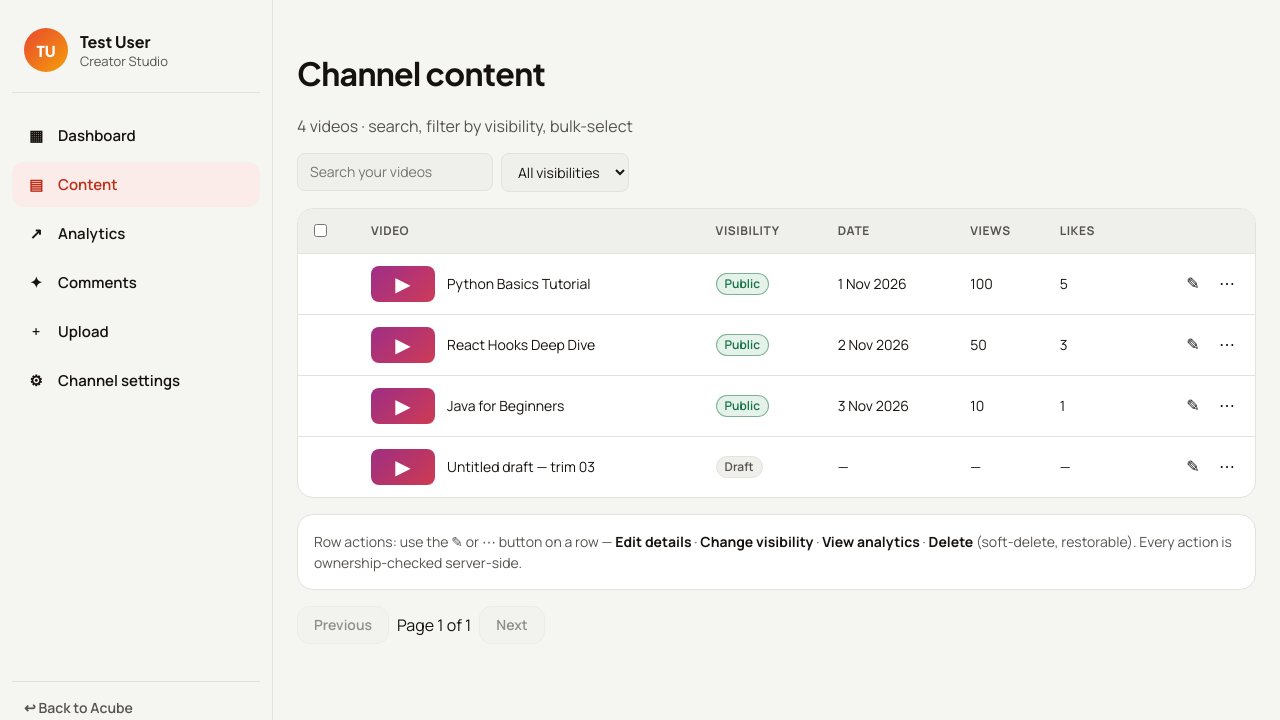
Scenario: Content cleanup › Edit details blocks an invalid thumbnail URL with an inline error and no PATCH
Expected: the link "Python Basics Tutorial" is shown, [447,274,591,293]
Click the button named "Row actions for Python Basics Tutorial" at coordinates (1193, 284), box [1177,268,1209,300]
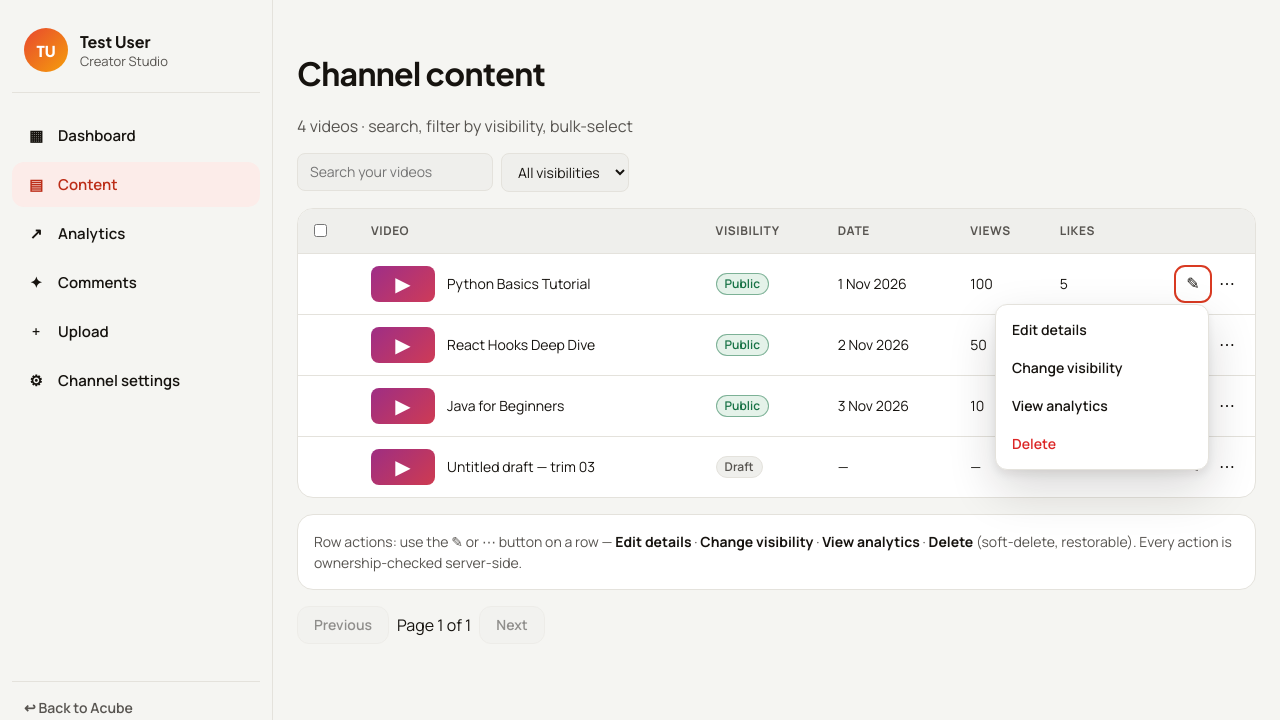
Expected: the menu named "Actions for Python Basics Tutorial" is shown, [995,304,1209,470]
Click the menu item "Edit details" at coordinates (1102, 330), box [1002,311,1202,349]
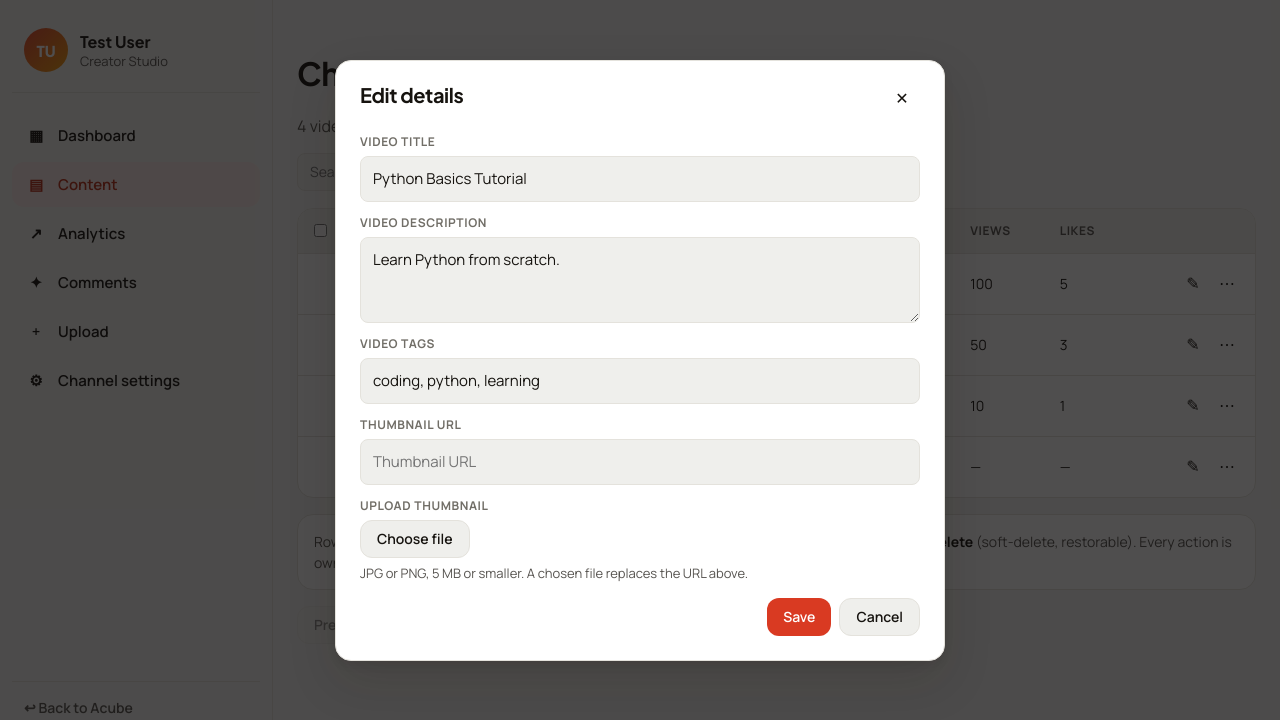
Type "not-a-url" into the field labelled "Thumbnail URL" at coordinates (640, 462), box [360,438,920,484]
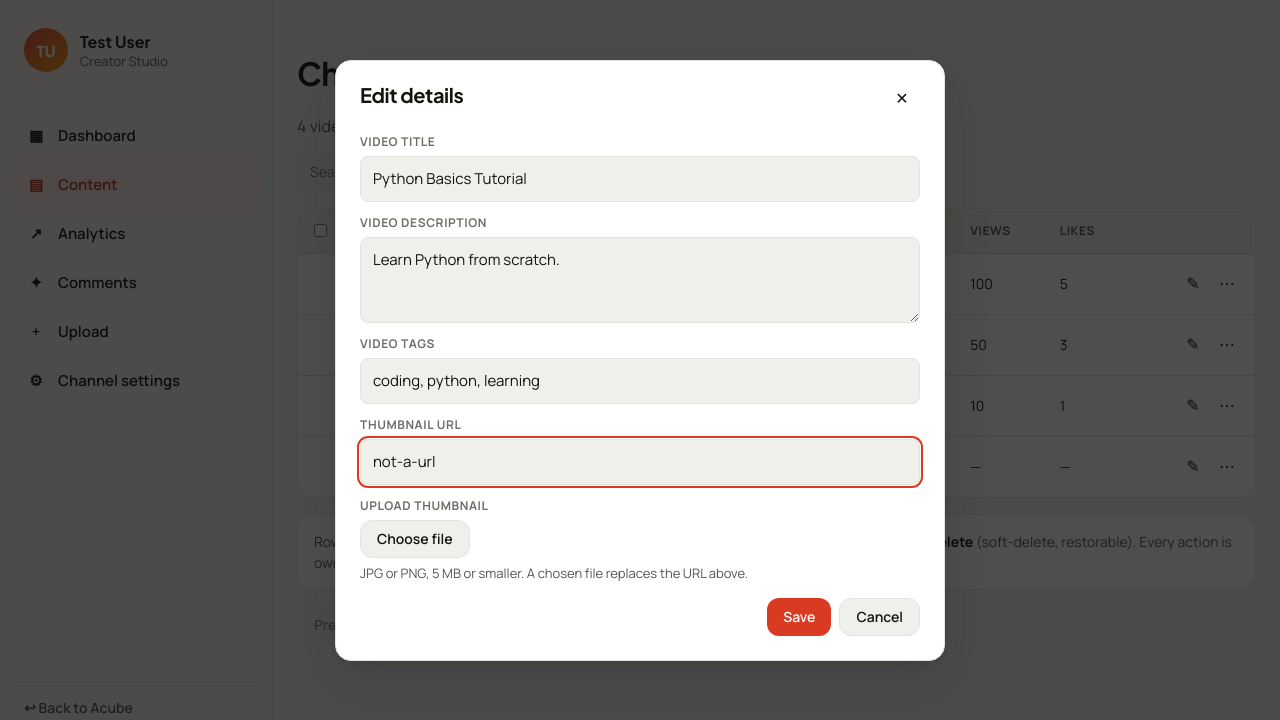
Click the button "Save" at coordinates (799, 616), box [767,598,832,636]
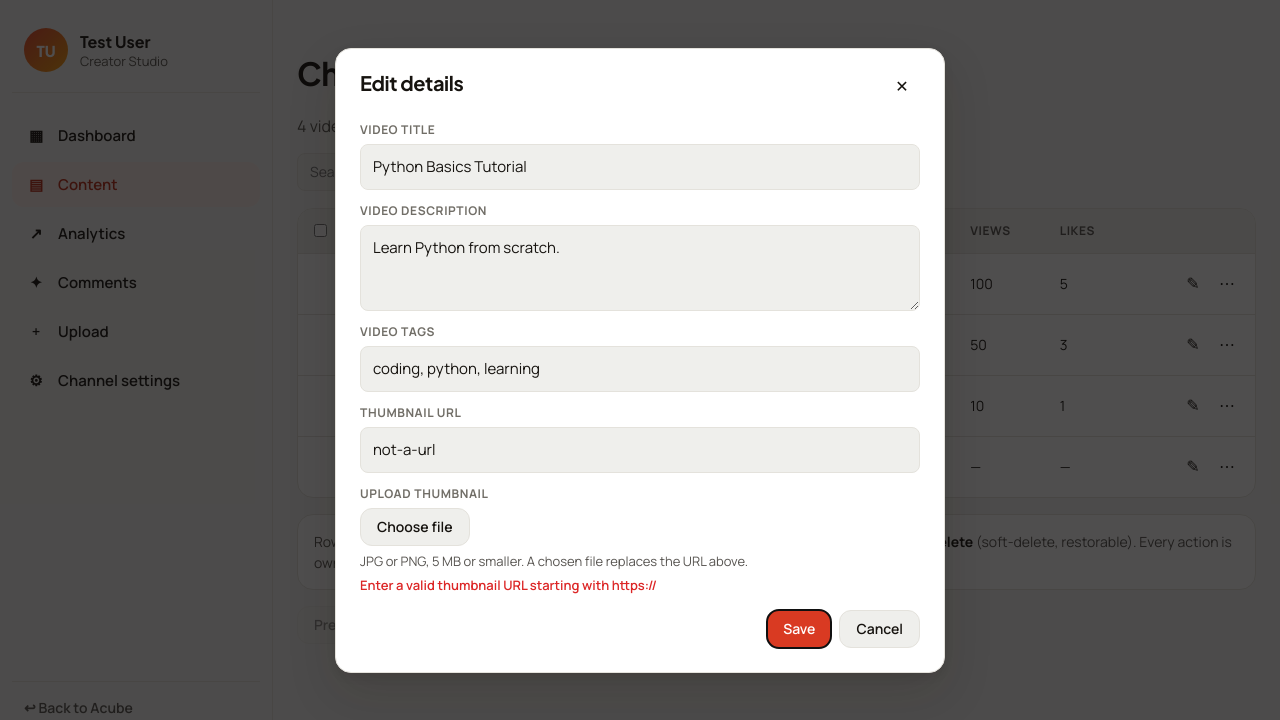
Expected: the dialog named "Edit details for Python Basics Tutorial" is shown, [335,48,945,672]
Expected: the message shows "Enter a valid thumbnail URL", [360,576,657,594]
